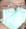with_mask: (1, 1, 26, 29)
